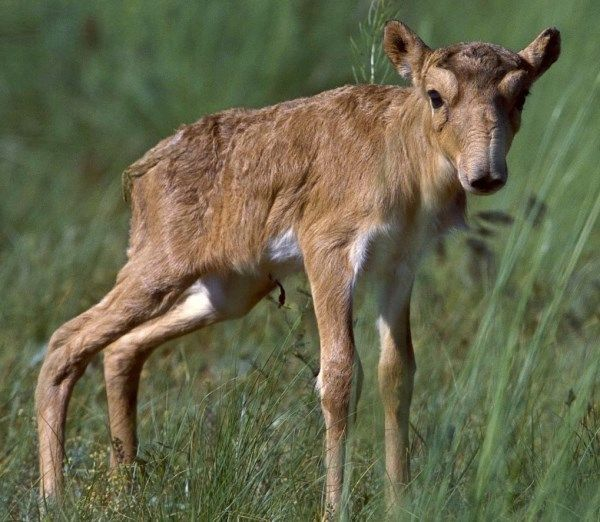saiga: (32, 19, 565, 522)
